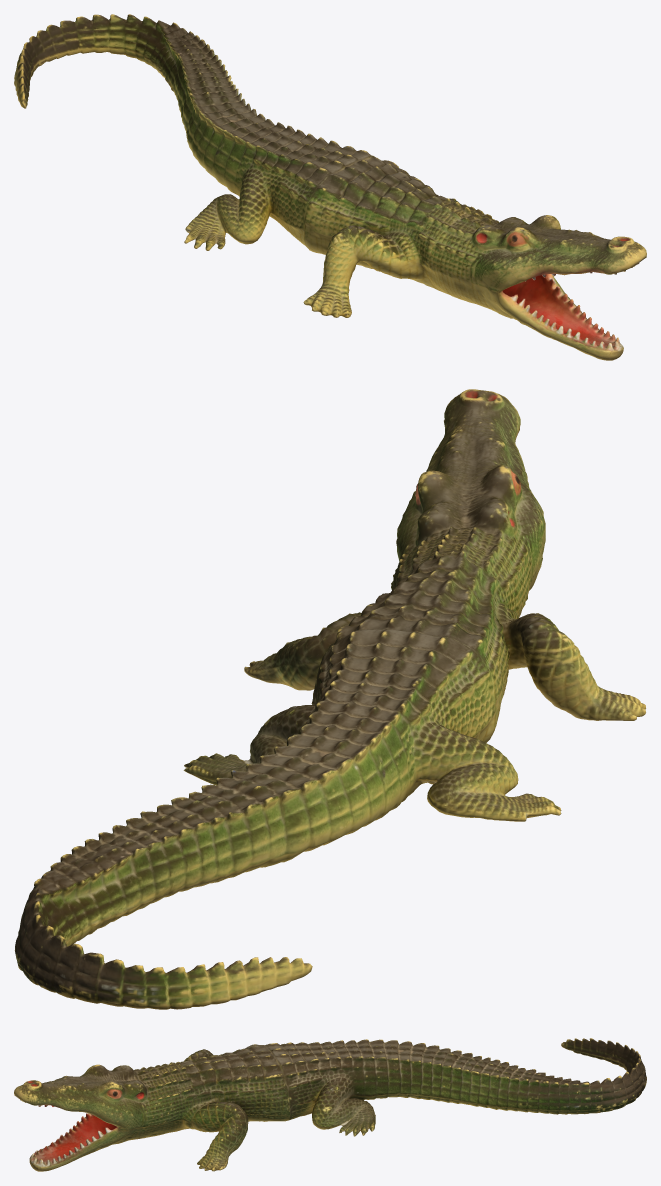
The model's file is crocodile.glb.
3 views of the same model, one above another, from view 1: azimuth 30°, elevation 25°; view 2: azimuth 150°, elevation 25°; view 3: azimuth 270°, elevation 25° (orthographic). The views are drawn at different scales.
Visible parts, largest first — view 1: Object_2; view 2: Object_2; view 3: Object_2.
Part boxes in pixels (left/top/right/bottom): Object_2: left=14, top=14, right=646, bottom=360; Object_2: left=14, top=389, right=645, bottom=1009; Object_2: left=14, top=1038, right=646, bottom=1171.
Size of the model in its own units: 10.5 by 4.3 by 27.72.
1 material, 1 textured.
